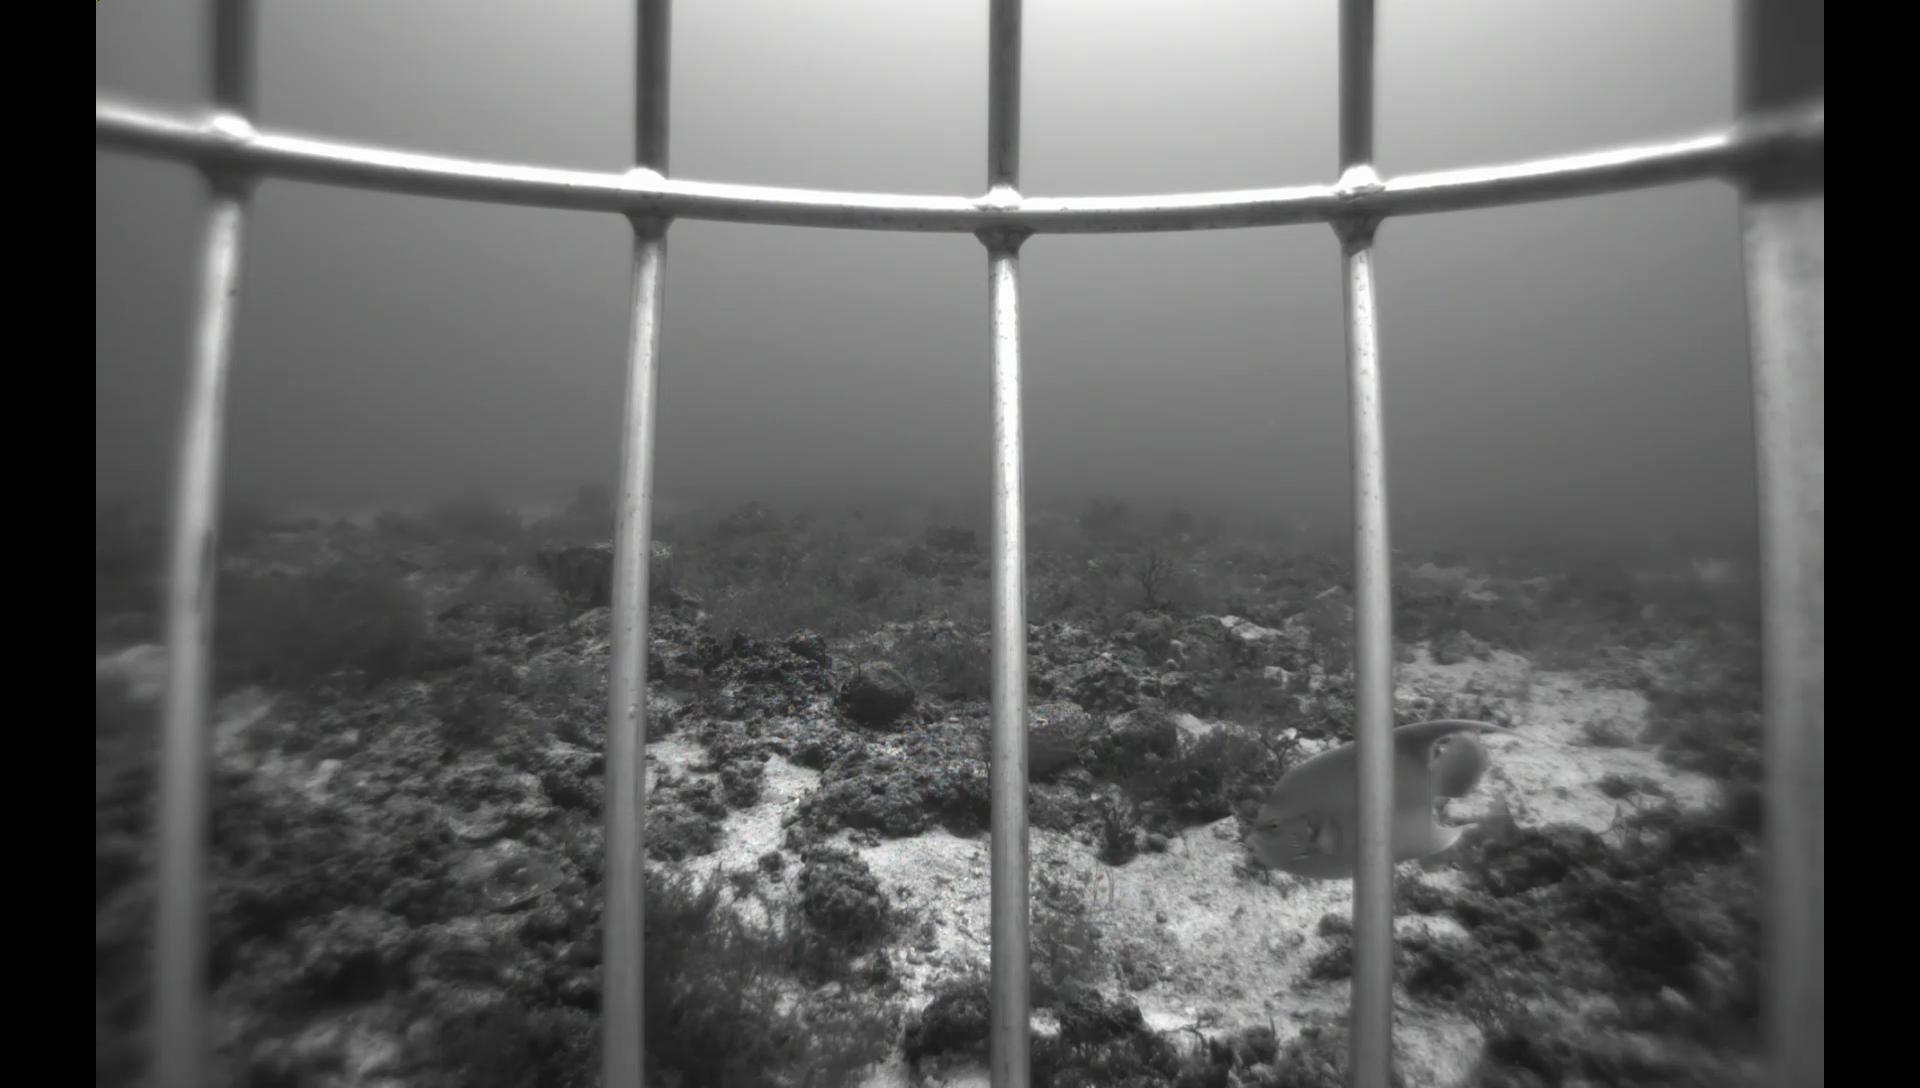HOLACANTHUSBERMUDENSIS-170290102: (1237, 713, 1547, 884), (1684, 549, 1755, 597)
SERRANUSANNULARIS-170024201: (427, 938, 514, 981)
